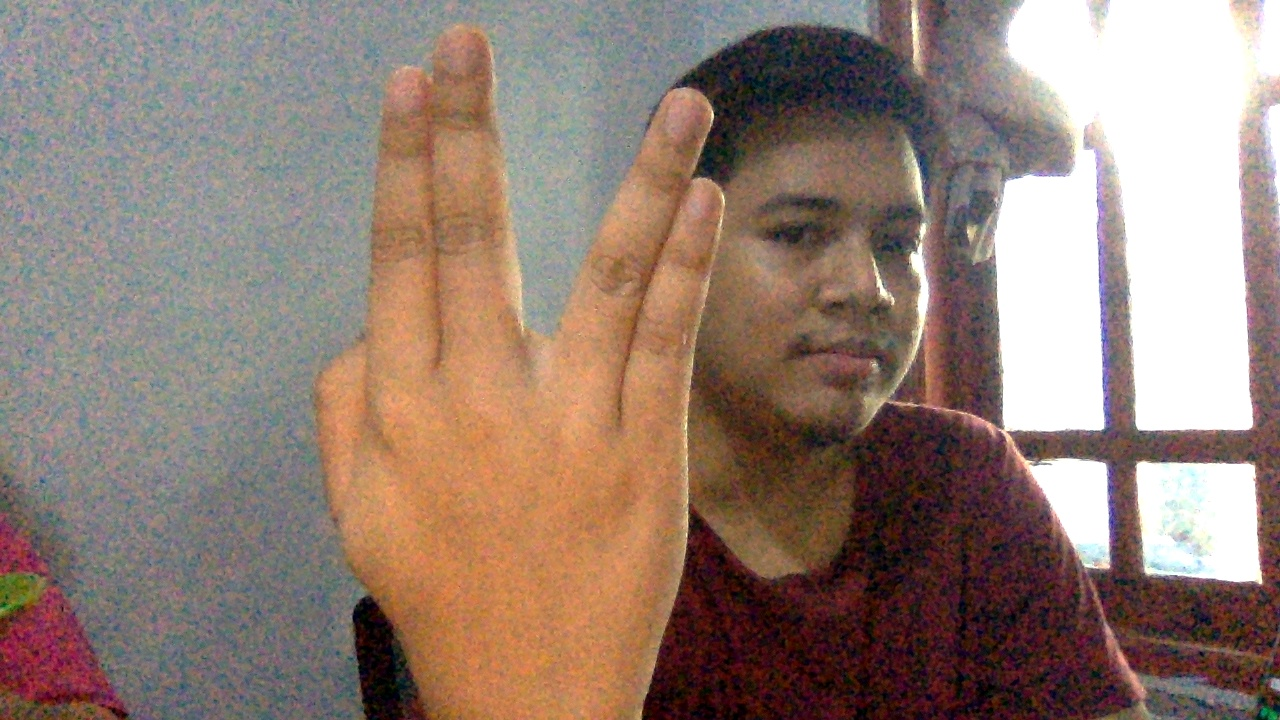livelong: (304, 5, 741, 713)
